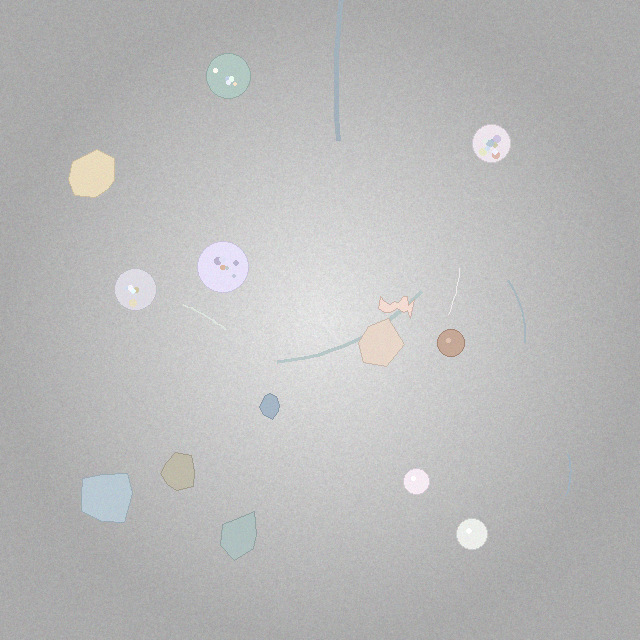fiber: (272, 287, 427, 367), (331, 0, 347, 146), (504, 277, 528, 345), (181, 302, 228, 332), (447, 267, 462, 316), (564, 452, 572, 497)
film: (378, 296, 414, 318)
foam: (197, 241, 249, 293), (207, 54, 251, 98), (115, 268, 157, 310), (473, 124, 511, 162)
fragment: (81, 473, 132, 523), (68, 149, 114, 198), (358, 319, 404, 367), (220, 511, 256, 560), (161, 452, 194, 490), (259, 394, 280, 420)
pellet: (457, 518, 487, 549), (437, 329, 465, 357), (403, 468, 430, 495)
